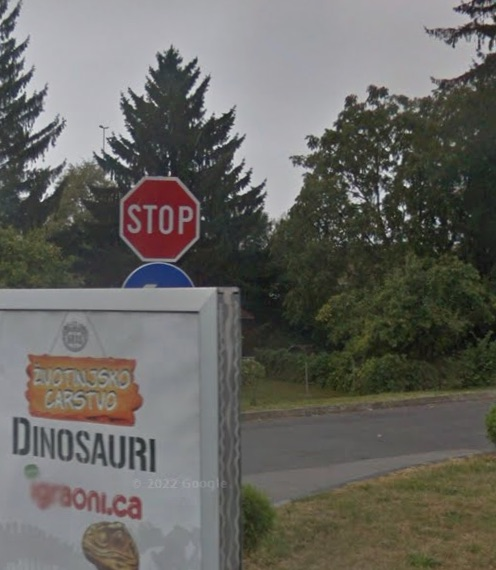Obavezno zaustavljanje: (119, 176, 200, 261)
